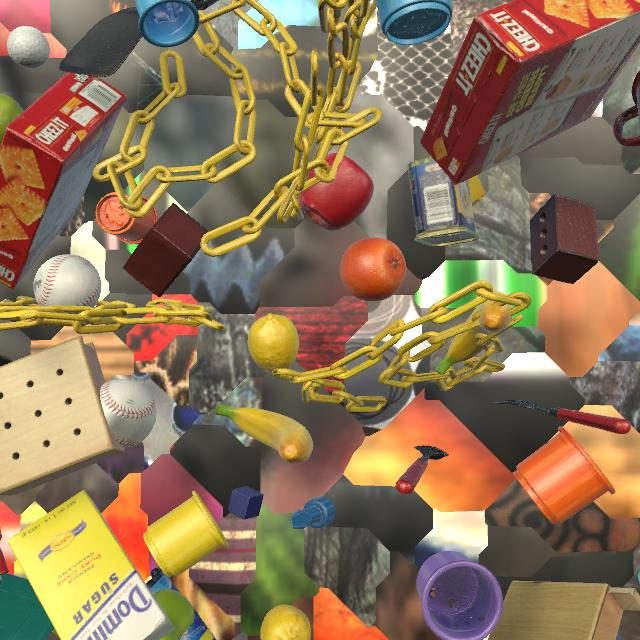ycb_003_cracker_box: (420, 0, 640, 185), (0, 72, 127, 290)
ycb_004_sugar_box: (8, 490, 175, 640)
ycb_010_potted_meat_can: (408, 157, 479, 247)
ycb_011_banana: (215, 404, 313, 464), (435, 300, 513, 375)
ycb_013_apple: (299, 153, 374, 231)
ycb_014_lemon: (248, 313, 299, 372), (260, 604, 311, 640)
ycb_016_pear: (154, 589, 195, 640), (0, 93, 24, 147)
ycb_017_orange: (340, 237, 406, 301)
